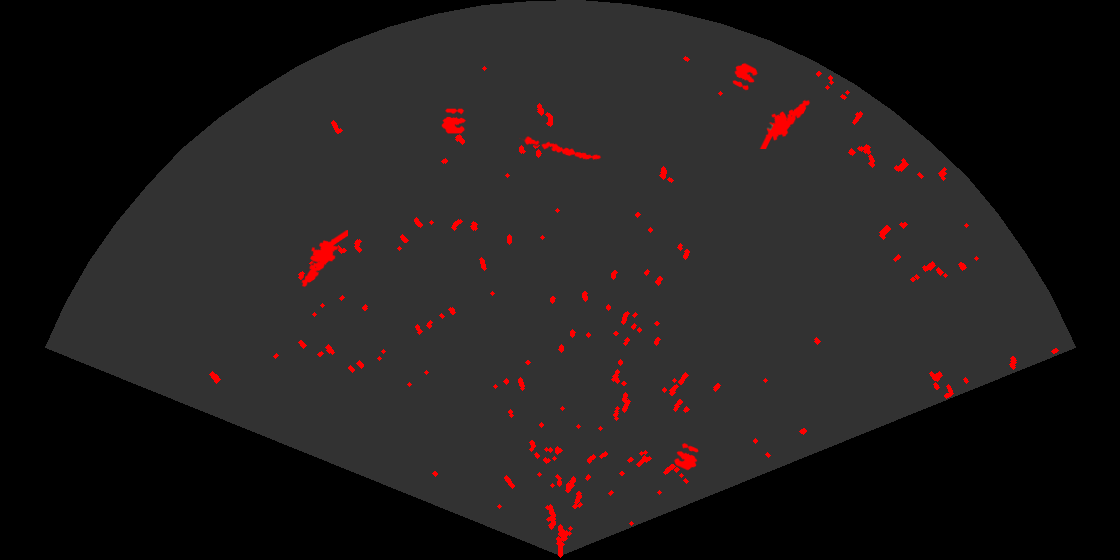ball: (731, 61, 760, 92), (672, 441, 700, 472), (440, 107, 468, 135)
chain: (519, 135, 603, 161)
frogman: (300, 230, 348, 289), (758, 98, 812, 149)
